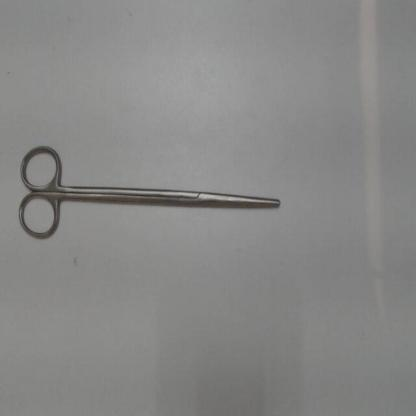9 Metzenbaum Scissors: (13, 137, 284, 245)
